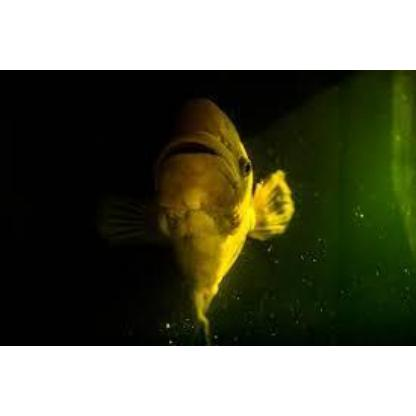gurame: (102, 90, 290, 330)
